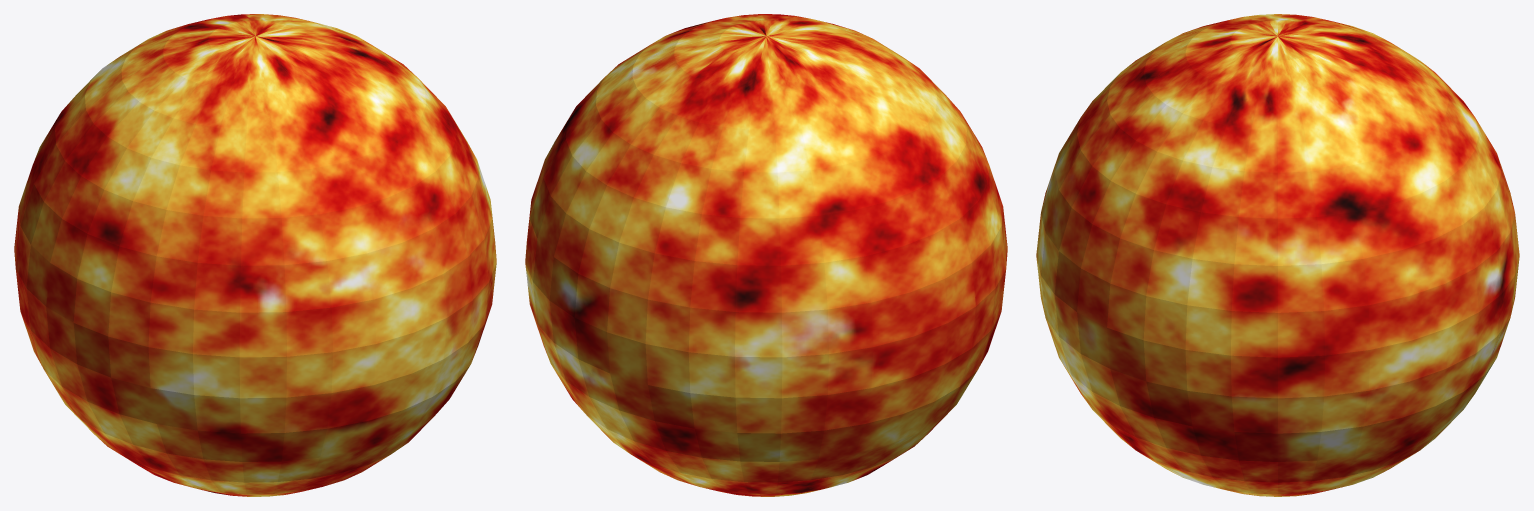
The model's file is sun.obj.
3 views of the same model, side by side, from view 1: azimuth 30°, elevation 25°; view 2: azimuth 150°, elevation 25°; view 3: azimuth 270°, elevation 25° (orthographic).
Visible parts, largest first — view 1: sun; view 2: sun; view 3: sun.
Part boxes in pixels (x1,y1,x2,y2): sun: (14, 14, 496, 496); sun: (525, 14, 1007, 496); sun: (1036, 14, 1519, 496).
Bounding box in the file's own units: 20 × 20 × 20.
